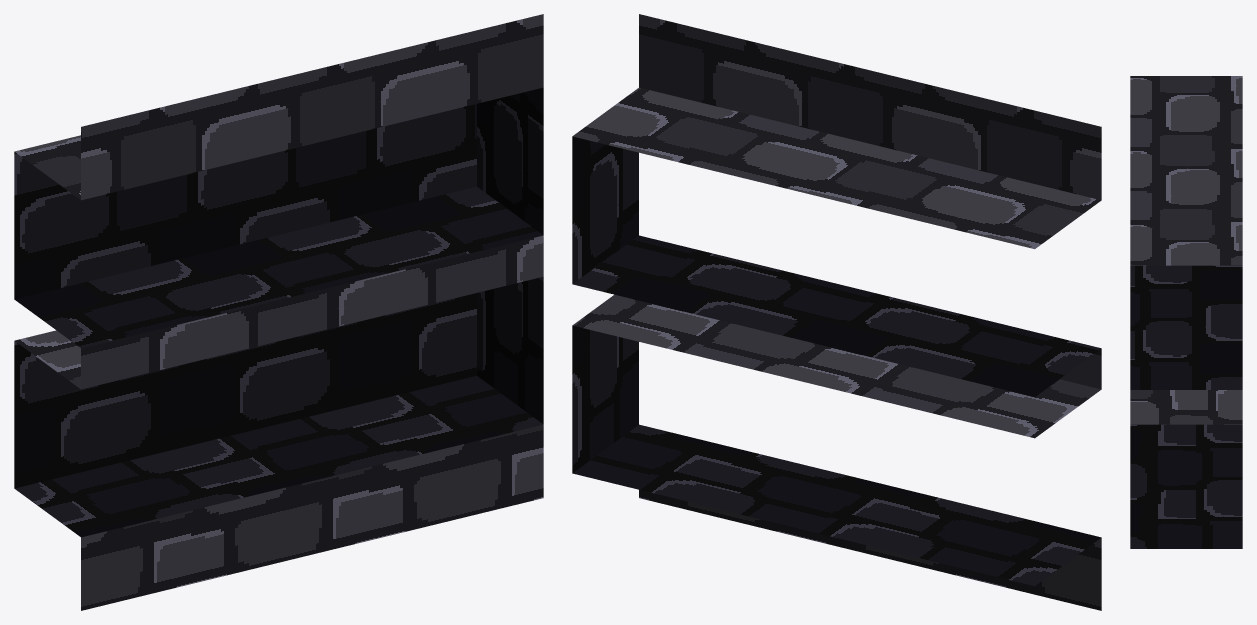
File: Wall_Catacomb.fbx
The picture shows the model from 3 angles, left to right: view 1: azimuth 30°, elevation 25°; view 2: azimuth 150°, elevation 25°; view 3: azimuth 270°, elevation 25°; orthographic projection. The views are drawn at different scales.
Visible parts, largest first — view 1: Wall.001; view 2: Wall.001; view 3: Wall.001.
Boxes of the visible parts, bbox=[...] form: Wall.001: bbox=[14, 14, 543, 610]; Wall.001: bbox=[572, 14, 1101, 610]; Wall.001: bbox=[1130, 76, 1242, 548].
Bounding box in the file's own units: 400 × 400 × 100.
